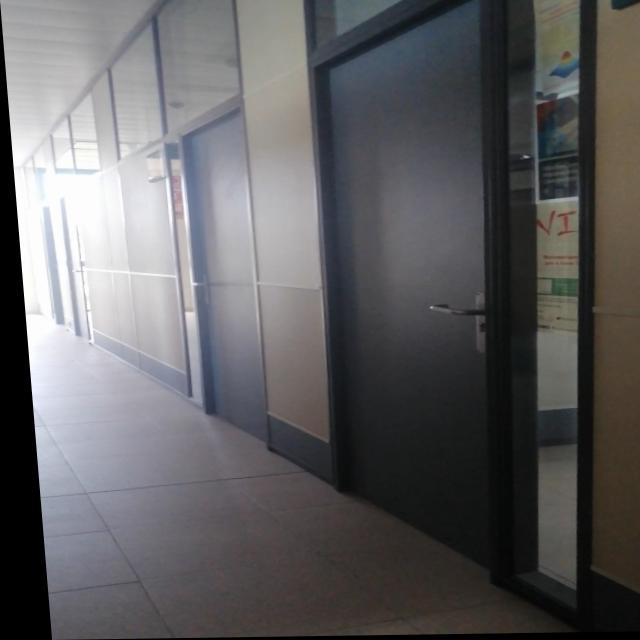door_handle: (411, 301, 487, 320)
